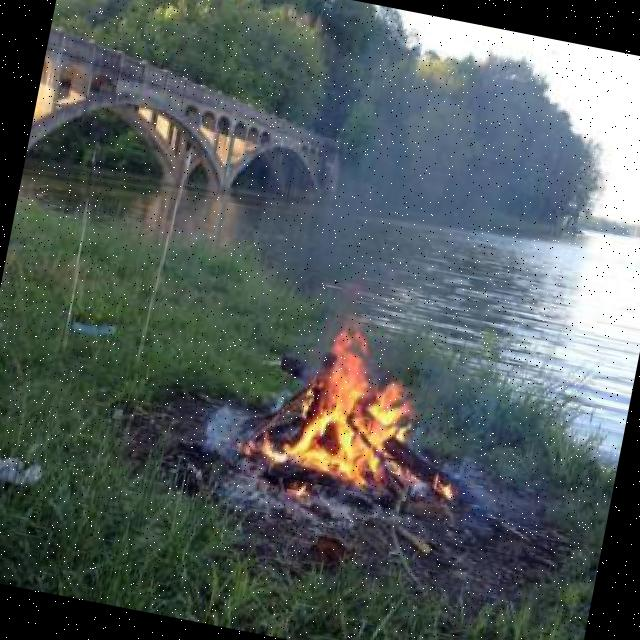fire: (268, 344, 432, 502)
